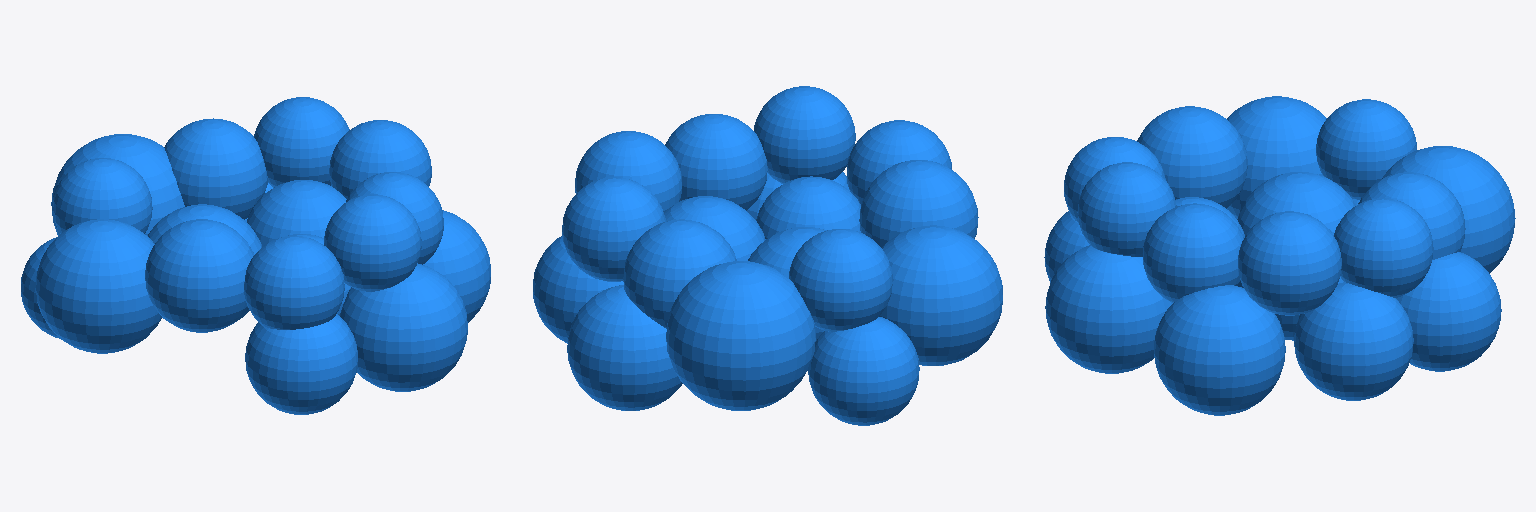
The robot description file, URDF, robot "dog_bowl":
<?xml version="1.0"?>
<robot name="dog_bowl">
  <!-- morphit:centroid 0.008186 -0.001870 0.033089 -->
  <material name="default_color">
    <color rgba="0.200000 0.600000 1.000000 1.000000"/>
  </material>
  <link name="base">
    <inertial>
      <mass value="0.001000"/>
      <inertia ixx="0.000010" ixy="0.0" ixz="0.0" iyy="0.000010" iyz="0.0" izz="0.000010"/>
    </inertial>
  </link>
  <link name="sphere_0">
    <visual>
      <origin xyz="0 0 0" rpy="0 0 0"/>
      <geometry><sphere radius="0.028431"/></geometry>
      <material name="default_color"/>
    </visual>
    <collision>
      <origin xyz="0 0 0" rpy="0 0 0"/>
      <geometry><sphere radius="0.028431"/></geometry>
    </collision>
    <inertial>
      <mass value="0.059080"/>
      <inertia ixx="0.000019" ixy="0.0" ixz="0.0" iyy="0.000019" iyz="0.0" izz="0.000019"/>
    </inertial>
  </link>
  <joint name="sphere_0_fixed" type="fixed">
    <parent link="base"/>
    <child link="sphere_0"/>
    <origin xyz="0.024808 0.077231 -0.021935" rpy="0 0 0"/>
  </joint>
  <link name="sphere_1">
    <visual>
      <origin xyz="0 0 0" rpy="0 0 0"/>
      <geometry><sphere radius="0.030629"/></geometry>
      <material name="default_color"/>
    </visual>
    <collision>
      <origin xyz="0 0 0" rpy="0 0 0"/>
      <geometry><sphere radius="0.030629"/></geometry>
    </collision>
    <inertial>
      <mass value="0.073872"/>
      <inertia ixx="0.000028" ixy="0.0" ixz="0.0" iyy="0.000028" iyz="0.0" izz="0.000028"/>
    </inertial>
  </link>
  <joint name="sphere_1_fixed" type="fixed">
    <parent link="base"/>
    <child link="sphere_1"/>
    <origin xyz="0.030480 -0.074314 -0.018010" rpy="0 0 0"/>
  </joint>
  <link name="sphere_2">
    <visual>
      <origin xyz="0 0 0" rpy="0 0 0"/>
      <geometry><sphere radius="0.029937"/></geometry>
      <material name="default_color"/>
    </visual>
    <collision>
      <origin xyz="0 0 0" rpy="0 0 0"/>
      <geometry><sphere radius="0.029937"/></geometry>
    </collision>
    <inertial>
      <mass value="0.068976"/>
      <inertia ixx="0.000025" ixy="0.0" ixz="0.0" iyy="0.000025" iyz="0.0" izz="0.000025"/>
    </inertial>
  </link>
  <joint name="sphere_2_fixed" type="fixed">
    <parent link="base"/>
    <child link="sphere_2"/>
    <origin xyz="-0.028043 0.012379 -0.009022" rpy="0 0 0"/>
  </joint>
  <link name="sphere_3">
    <visual>
      <origin xyz="0 0 0" rpy="0 0 0"/>
      <geometry><sphere radius="0.026695"/></geometry>
      <material name="default_color"/>
    </visual>
    <collision>
      <origin xyz="0 0 0" rpy="0 0 0"/>
      <geometry><sphere radius="0.026695"/></geometry>
    </collision>
    <inertial>
      <mass value="0.048904"/>
      <inertia ixx="0.000014" ixy="0.0" ixz="0.0" iyy="0.000014" iyz="0.0" izz="0.000014"/>
    </inertial>
  </link>
  <joint name="sphere_3_fixed" type="fixed">
    <parent link="base"/>
    <child link="sphere_3"/>
    <origin xyz="-0.057495 -0.038086 0.014133" rpy="0 0 0"/>
  </joint>
  <link name="sphere_4">
    <visual>
      <origin xyz="0 0 0" rpy="0 0 0"/>
      <geometry><sphere radius="0.024139"/></geometry>
      <material name="default_color"/>
    </visual>
    <collision>
      <origin xyz="0 0 0" rpy="0 0 0"/>
      <geometry><sphere radius="0.024139"/></geometry>
    </collision>
    <inertial>
      <mass value="0.036161"/>
      <inertia ixx="0.000008" ixy="0.0" ixz="0.0" iyy="0.000008" iyz="0.0" izz="0.000008"/>
    </inertial>
  </link>
  <joint name="sphere_4_fixed" type="fixed">
    <parent link="base"/>
    <child link="sphere_4"/>
    <origin xyz="0.065857 0.007904 0.020971" rpy="0 0 0"/>
  </joint>
  <link name="sphere_5">
    <visual>
      <origin xyz="0 0 0" rpy="0 0 0"/>
      <geometry><sphere radius="0.030526"/></geometry>
      <material name="default_color"/>
    </visual>
    <collision>
      <origin xyz="0 0 0" rpy="0 0 0"/>
      <geometry><sphere radius="0.030526"/></geometry>
    </collision>
    <inertial>
      <mass value="0.073129"/>
      <inertia ixx="0.000027" ixy="0.0" ixz="0.0" iyy="0.000027" iyz="0.0" izz="0.000027"/>
    </inertial>
  </link>
  <joint name="sphere_5_fixed" type="fixed">
    <parent link="base"/>
    <child link="sphere_5"/>
    <origin xyz="0.072013 -0.024448 -0.020023" rpy="0 0 0"/>
  </joint>
  <link name="sphere_6">
    <visual>
      <origin xyz="0 0 0" rpy="0 0 0"/>
      <geometry><sphere radius="0.027669"/></geometry>
      <material name="default_color"/>
    </visual>
    <collision>
      <origin xyz="0 0 0" rpy="0 0 0"/>
      <geometry><sphere radius="0.027669"/></geometry>
    </collision>
    <inertial>
      <mass value="0.054457"/>
      <inertia ixx="0.000017" ixy="0.0" ixz="0.0" iyy="0.000017" iyz="0.0" izz="0.000017"/>
    </inertial>
  </link>
  <joint name="sphere_6_fixed" type="fixed">
    <parent link="base"/>
    <child link="sphere_6"/>
    <origin xyz="0.066570 0.037438 -0.018230" rpy="0 0 0"/>
  </joint>
  <link name="sphere_7">
    <visual>
      <origin xyz="0 0 0" rpy="0 0 0"/>
      <geometry><sphere radius="0.026631"/></geometry>
      <material name="default_color"/>
    </visual>
    <collision>
      <origin xyz="0 0 0" rpy="0 0 0"/>
      <geometry><sphere radius="0.026631"/></geometry>
    </collision>
    <inertial>
      <mass value="0.048555"/>
      <inertia ixx="0.000014" ixy="0.0" ixz="0.0" iyy="0.000014" iyz="0.0" izz="0.000014"/>
    </inertial>
  </link>
  <joint name="sphere_7_fixed" type="fixed">
    <parent link="base"/>
    <child link="sphere_7"/>
    <origin xyz="-0.026836 -0.078694 -0.019205" rpy="0 0 0"/>
  </joint>
  <link name="sphere_8">
    <visual>
      <origin xyz="0 0 0" rpy="0 0 0"/>
      <geometry><sphere radius="0.025662"/></geometry>
      <material name="default_color"/>
    </visual>
    <collision>
      <origin xyz="0 0 0" rpy="0 0 0"/>
      <geometry><sphere radius="0.025662"/></geometry>
    </collision>
    <inertial>
      <mass value="0.043447"/>
      <inertia ixx="0.000011" ixy="0.0" ixz="0.0" iyy="0.000011" iyz="0.0" izz="0.000011"/>
    </inertial>
  </link>
  <joint name="sphere_8_fixed" type="fixed">
    <parent link="base"/>
    <child link="sphere_8"/>
    <origin xyz="-0.002683 -0.037070 -0.005386" rpy="0 0 0"/>
  </joint>
  <link name="sphere_9">
    <visual>
      <origin xyz="0 0 0" rpy="0 0 0"/>
      <geometry><sphere radius="0.024199"/></geometry>
      <material name="default_color"/>
    </visual>
    <collision>
      <origin xyz="0 0 0" rpy="0 0 0"/>
      <geometry><sphere radius="0.024199"/></geometry>
    </collision>
    <inertial>
      <mass value="0.036430"/>
      <inertia ixx="0.000009" ixy="0.0" ixz="0.0" iyy="0.000009" iyz="0.0" izz="0.000009"/>
    </inertial>
  </link>
  <joint name="sphere_9_fixed" type="fixed">
    <parent link="base"/>
    <child link="sphere_9"/>
    <origin xyz="0.047048 -0.035901 0.016135" rpy="0 0 0"/>
  </joint>
  <link name="sphere_10">
    <visual>
      <origin xyz="0 0 0" rpy="0 0 0"/>
      <geometry><sphere radius="0.023778"/></geometry>
      <material name="default_color"/>
    </visual>
    <collision>
      <origin xyz="0 0 0" rpy="0 0 0"/>
      <geometry><sphere radius="0.023778"/></geometry>
    </collision>
    <inertial>
      <mass value="0.034563"/>
      <inertia ixx="0.000008" ixy="0.0" ixz="0.0" iyy="0.000008" iyz="0.0" izz="0.000008"/>
    </inertial>
  </link>
  <joint name="sphere_10_fixed" type="fixed">
    <parent link="base"/>
    <child link="sphere_10"/>
    <origin xyz="-0.027494 -0.072737 0.015820" rpy="0 0 0"/>
  </joint>
  <link name="sphere_11">
    <visual>
      <origin xyz="0 0 0" rpy="0 0 0"/>
      <geometry><sphere radius="0.033646"/></geometry>
      <material name="default_color"/>
    </visual>
    <collision>
      <origin xyz="0 0 0" rpy="0 0 0"/>
      <geometry><sphere radius="0.033646"/></geometry>
    </collision>
    <inertial>
      <mass value="0.097923"/>
      <inertia ixx="0.000044" ixy="0.0" ixz="0.0" iyy="0.000044" iyz="0.0" izz="0.000044"/>
    </inertial>
  </link>
  <joint name="sphere_11_fixed" type="fixed">
    <parent link="base"/>
    <child link="sphere_11"/>
    <origin xyz="-0.032932 0.078406 -0.002194" rpy="0 0 0"/>
  </joint>
  <link name="sphere_12">
    <visual>
      <origin xyz="0 0 0" rpy="0 0 0"/>
      <geometry><sphere radius="0.031588"/></geometry>
      <material name="default_color"/>
    </visual>
    <collision>
      <origin xyz="0 0 0" rpy="0 0 0"/>
      <geometry><sphere radius="0.031588"/></geometry>
    </collision>
    <inertial>
      <mass value="0.081031"/>
      <inertia ixx="0.000032" ixy="0.0" ixz="0.0" iyy="0.000032" iyz="0.0" izz="0.000032"/>
    </inertial>
  </link>
  <joint name="sphere_12_fixed" type="fixed">
    <parent link="base"/>
    <child link="sphere_12"/>
    <origin xyz="-0.087928 0.002030 -0.000390" rpy="0 0 0"/>
  </joint>
  <link name="sphere_13">
    <visual>
      <origin xyz="0 0 0" rpy="0 0 0"/>
      <geometry><sphere radius="0.024998"/></geometry>
      <material name="default_color"/>
    </visual>
    <collision>
      <origin xyz="0 0 0" rpy="0 0 0"/>
      <geometry><sphere radius="0.024998"/></geometry>
    </collision>
    <inertial>
      <mass value="0.040162"/>
      <inertia ixx="0.000010" ixy="0.0" ixz="0.0" iyy="0.000010" iyz="0.0" izz="0.000010"/>
    </inertial>
  </link>
  <joint name="sphere_13_fixed" type="fixed">
    <parent link="base"/>
    <child link="sphere_13"/>
    <origin xyz="-0.077952 0.046590 -0.021293" rpy="0 0 0"/>
  </joint>
  <link name="sphere_14">
    <visual>
      <origin xyz="0 0 0" rpy="0 0 0"/>
      <geometry><sphere radius="0.026167"/></geometry>
      <material name="default_color"/>
    </visual>
    <collision>
      <origin xyz="0 0 0" rpy="0 0 0"/>
      <geometry><sphere radius="0.026167"/></geometry>
    </collision>
    <inertial>
      <mass value="0.046063"/>
      <inertia ixx="0.000013" ixy="0.0" ixz="0.0" iyy="0.000013" iyz="0.0" izz="0.000013"/>
    </inertial>
  </link>
  <joint name="sphere_14_fixed" type="fixed">
    <parent link="base"/>
    <child link="sphere_14"/>
    <origin xyz="0.006737 0.062867 0.011016" rpy="0 0 0"/>
  </joint>
  <link name="sphere_15">
    <visual>
      <origin xyz="0 0 0" rpy="0 0 0"/>
      <geometry><sphere radius="0.023517"/></geometry>
      <material name="default_color"/>
    </visual>
    <collision>
      <origin xyz="0 0 0" rpy="0 0 0"/>
      <geometry><sphere radius="0.023517"/></geometry>
    </collision>
    <inertial>
      <mass value="0.033437"/>
      <inertia ixx="0.000007" ixy="0.0" ixz="0.0" iyy="0.000007" iyz="0.0" izz="0.000007"/>
    </inertial>
  </link>
  <joint name="sphere_15_fixed" type="fixed">
    <parent link="base"/>
    <child link="sphere_15"/>
    <origin xyz="0.048431 0.050761 0.020257" rpy="0 0 0"/>
  </joint>
  <link name="sphere_16">
    <visual>
      <origin xyz="0 0 0" rpy="0 0 0"/>
      <geometry><sphere radius="0.023029"/></geometry>
      <material name="default_color"/>
    </visual>
    <collision>
      <origin xyz="0 0 0" rpy="0 0 0"/>
      <geometry><sphere radius="0.023029"/></geometry>
    </collision>
    <inertial>
      <mass value="0.031396"/>
      <inertia ixx="0.000007" ixy="0.0" ixz="0.0" iyy="0.000007" iyz="0.0" izz="0.000007"/>
    </inertial>
  </link>
  <joint name="sphere_16_fixed" type="fixed">
    <parent link="base"/>
    <child link="sphere_16"/>
    <origin xyz="0.018368 -0.067093 0.025056" rpy="0 0 0"/>
  </joint>
  <link name="sphere_17">
    <visual>
      <origin xyz="0 0 0" rpy="0 0 0"/>
      <geometry><sphere radius="0.028469"/></geometry>
      <material name="default_color"/>
    </visual>
    <collision>
      <origin xyz="0 0 0" rpy="0 0 0"/>
      <geometry><sphere radius="0.028469"/></geometry>
    </collision>
    <inertial>
      <mass value="0.059317"/>
      <inertia ixx="0.000019" ixy="0.0" ixz="0.0" iyy="0.000019" iyz="0.0" izz="0.000019"/>
    </inertial>
  </link>
  <joint name="sphere_17_fixed" type="fixed">
    <parent link="base"/>
    <child link="sphere_17"/>
    <origin xyz="0.025170 0.009412 -0.005851" rpy="0 0 0"/>
  </joint>
  <link name="sphere_18">
    <visual>
      <origin xyz="0 0 0" rpy="0 0 0"/>
      <geometry><sphere radius="0.023437"/></geometry>
      <material name="default_color"/>
    </visual>
    <collision>
      <origin xyz="0 0 0" rpy="0 0 0"/>
      <geometry><sphere radius="0.023437"/></geometry>
    </collision>
    <inertial>
      <mass value="0.033096"/>
      <inertia ixx="0.000007" ixy="0.0" ixz="0.0" iyy="0.000007" iyz="0.0" izz="0.000007"/>
    </inertial>
  </link>
  <joint name="sphere_18_fixed" type="fixed">
    <parent link="base"/>
    <child link="sphere_18"/>
    <origin xyz="-0.064119 0.043325 0.018151" rpy="0 0 0"/>
  </joint>
</robot>

--- Facts derived from the render (not from the file) ---
3 views of the same robot in one strip: view 1: azimuth 30°, elevation 25°; view 2: azimuth 150°, elevation 25°; view 3: azimuth 270°, elevation 25° (orthographic).
Robot: dog_bowl — 20 links, 19 joints (19 fixed); root link base; default pose: all joints at 0.
Links seen in each view (by area): view 1: sphere_12, sphere_1, sphere_3, sphere_7, sphere_10, sphere_14, sphere_16, sphere_15, sphere_18, sphere_4, sphere_17, sphere_11 (+4 smaller); view 2: sphere_11, sphere_12, sphere_0, sphere_13, sphere_18, sphere_16, sphere_15, sphere_3, sphere_9, sphere_14, sphere_4, sphere_8 (+5 smaller); view 3: sphere_5, sphere_1, sphere_6, sphere_0, sphere_4, sphere_3, sphere_15, sphere_9, sphere_11, sphere_18, sphere_16, sphere_12 (+4 smaller).
Link boxes in pixels (x1,y1,x2,y2): sphere_12: (36,219,161,353); sphere_1: (340,263,467,391); sphere_3: (145,219,253,332); sphere_7: (245,314,357,414); sphere_10: (244,236,344,329); sphere_14: (164,118,267,219); sphere_16: (324,194,421,291); sphere_15: (254,97,349,187); sphere_18: (53,158,152,233); sphere_4: (329,120,431,198); sphere_17: (247,180,346,246); sphere_11: (51,134,184,235); sphere_11: (666,261,815,410); sphere_12: (879,225,1002,365); sphere_0: (567,285,682,410); sphere_13: (808,317,919,425); sphere_18: (789,229,892,331); sphere_16: (754,86,855,183); sphere_15: (562,177,665,281); sphere_3: (859,160,978,247); sphere_9: (665,114,767,210); sphere_14: (623,219,736,328); sphere_4: (575,131,681,212); sphere_8: (756,176,860,238); sphere_5: (1154,285,1285,415); sphere_1: (1045,245,1172,373); sphere_6: (1294,282,1413,400); sphere_0: (1396,252,1501,371); sphere_4: (1238,211,1341,315); sphere_3: (1137,106,1247,208); sphere_15: (1334,198,1433,297); sphere_9: (1143,203,1243,302); sphere_11: (1382,146,1515,273); sphere_18: (1316,99,1416,199); sphere_16: (1077,162,1176,256); sphere_12: (1227,96,1326,218).
Bounding box of the posed robot: 0.2221 × 0.2174 × 0.0986 m (x, y, z).
Geometry: primitives only (box / cylinder / sphere), no mesh files.
